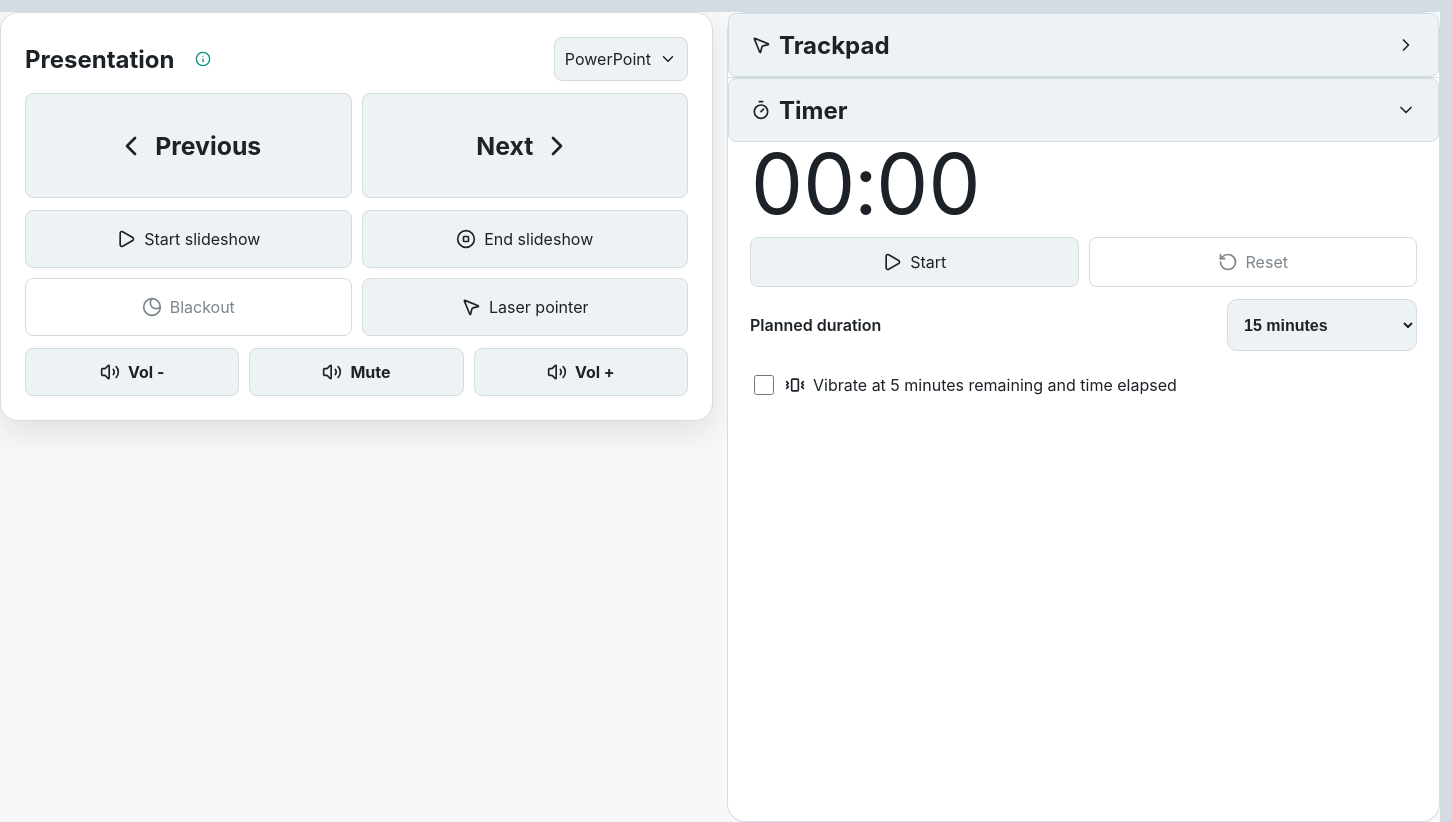
it: PresentationMode › switches to a compact presentation summary while the trackpad owns the layout
Click the button "Trackpad": (834, 45) [728,13,1439,77]
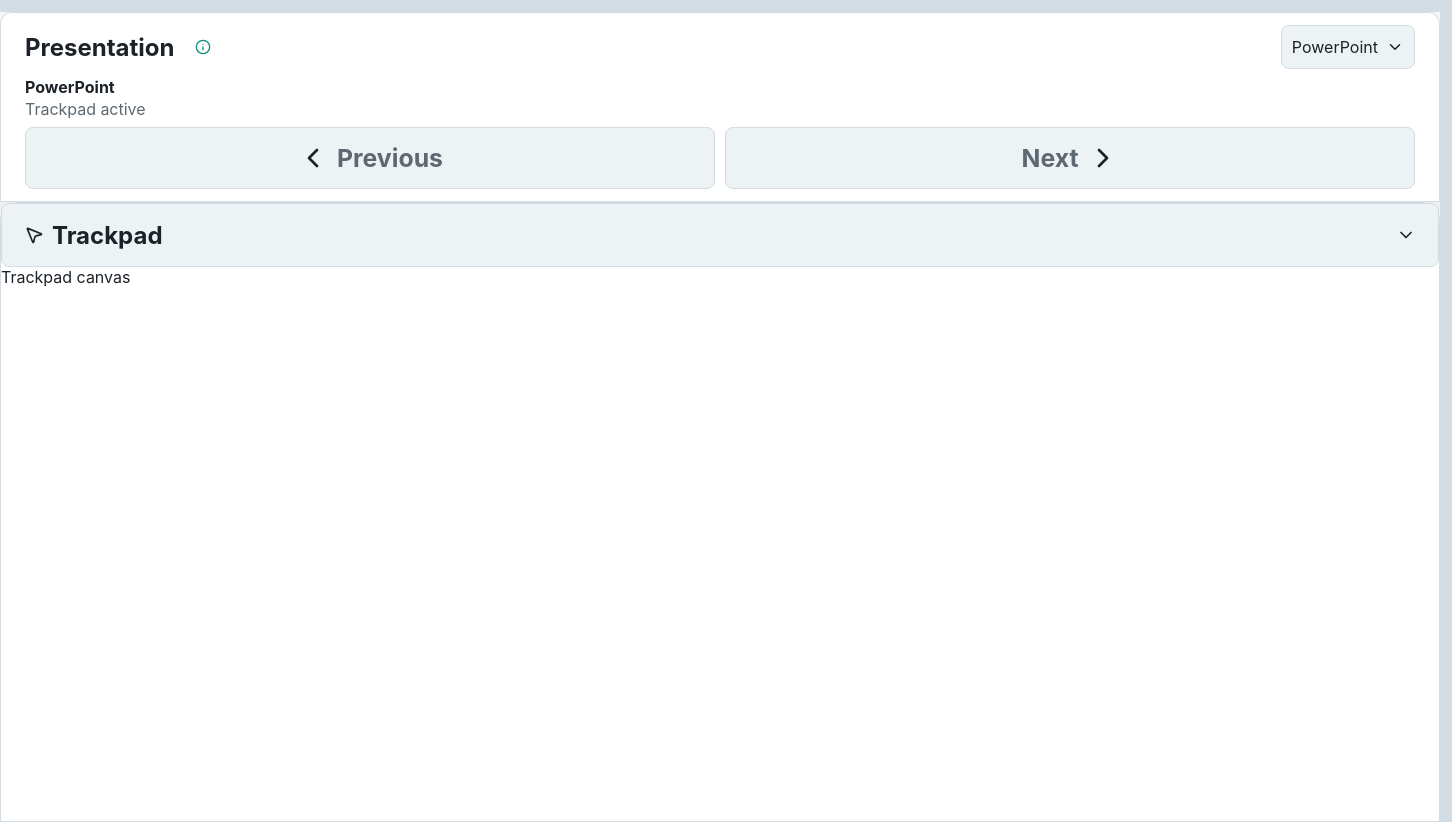
Expected: the button with aria-label "Previous slide" reads "Previous", [25,127,715,189]
Now the text "Trackpad canvas" is shown, box [1,267,130,287]
Now the element named "Current presentation" is shown, box [25,77,1415,189]
